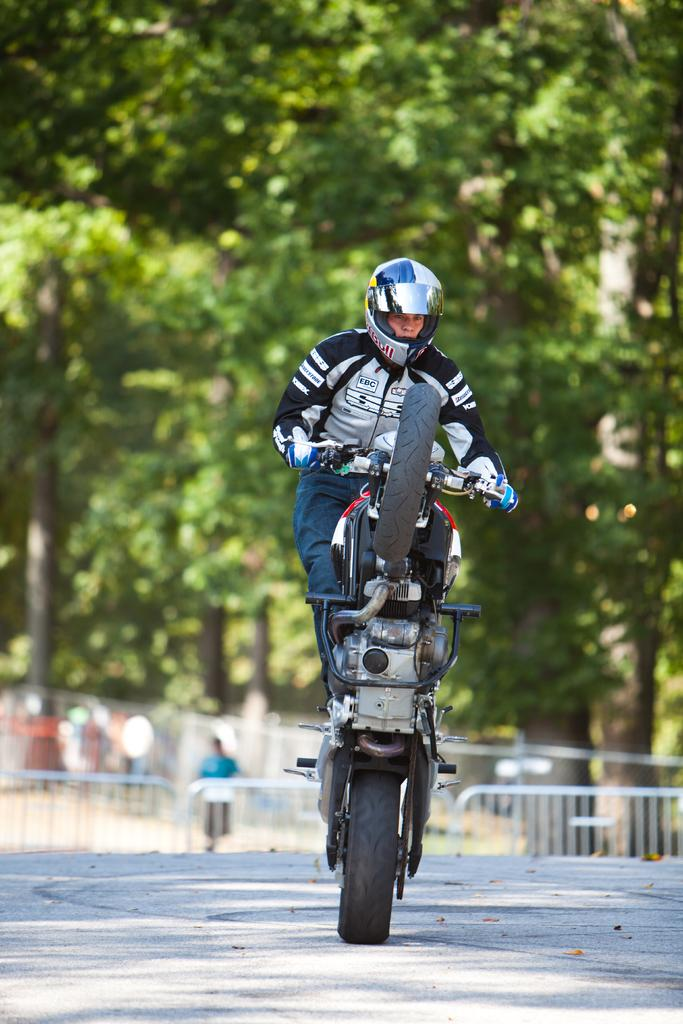helmet: (364, 257, 445, 368)
